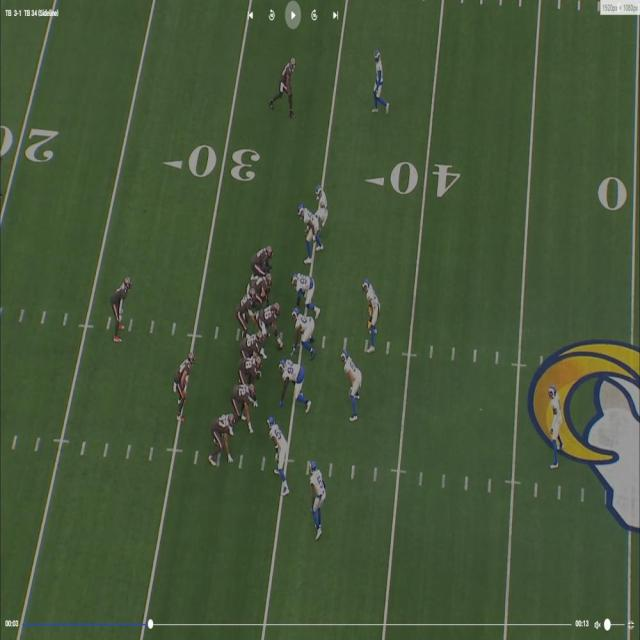center: (260, 299, 285, 352)
db: (308, 460, 326, 534), (548, 384, 562, 459), (318, 184, 330, 238), (376, 51, 386, 113)
lb: (265, 414, 290, 498), (363, 274, 379, 355), (345, 352, 363, 419), (300, 206, 323, 257)
qb: (235, 279, 258, 335)
skill: (232, 382, 255, 437), (274, 59, 297, 111), (112, 279, 130, 341), (176, 354, 193, 413), (212, 414, 232, 464)
